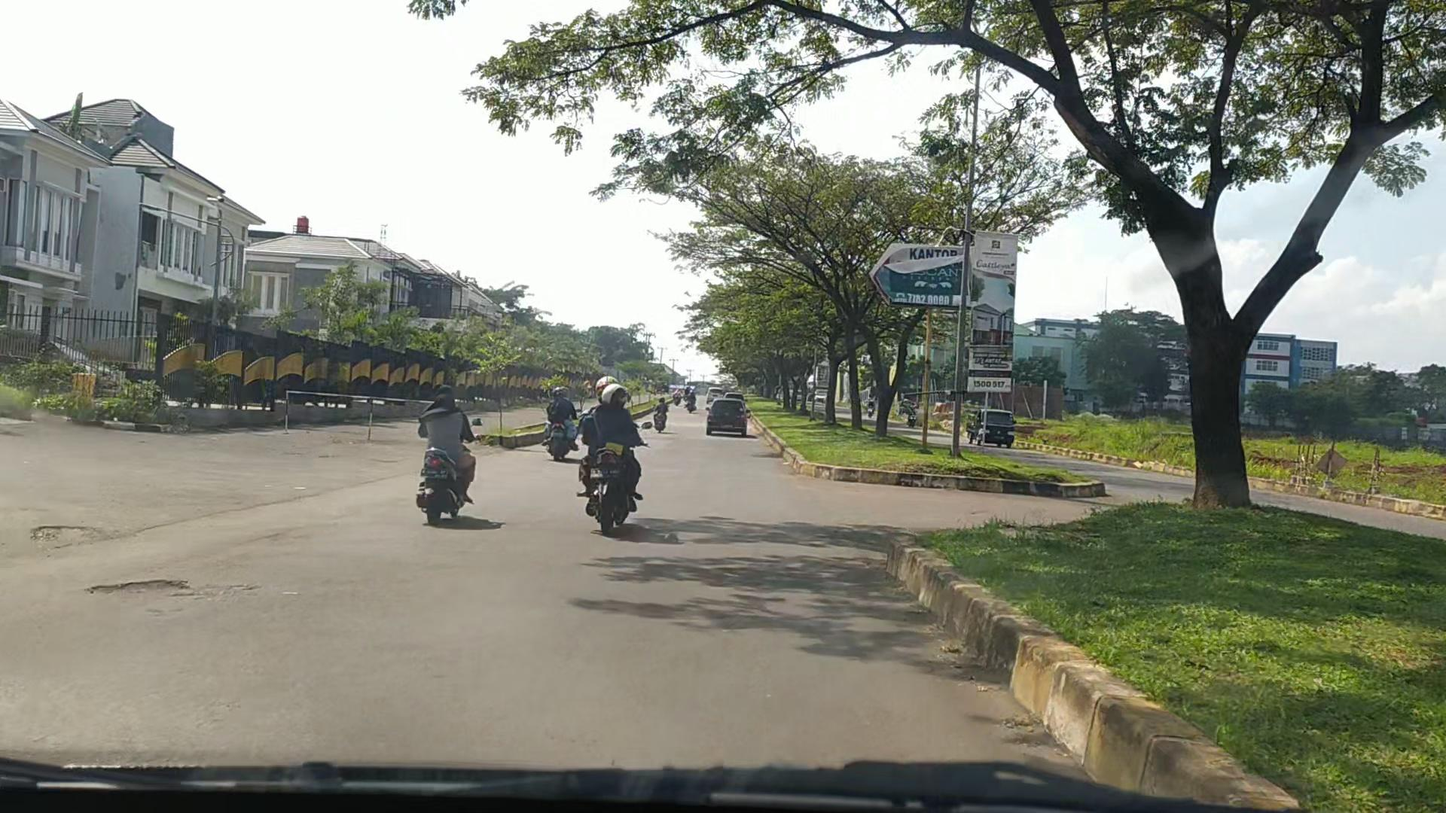pothole: (92, 580, 191, 603), (30, 526, 110, 545)
